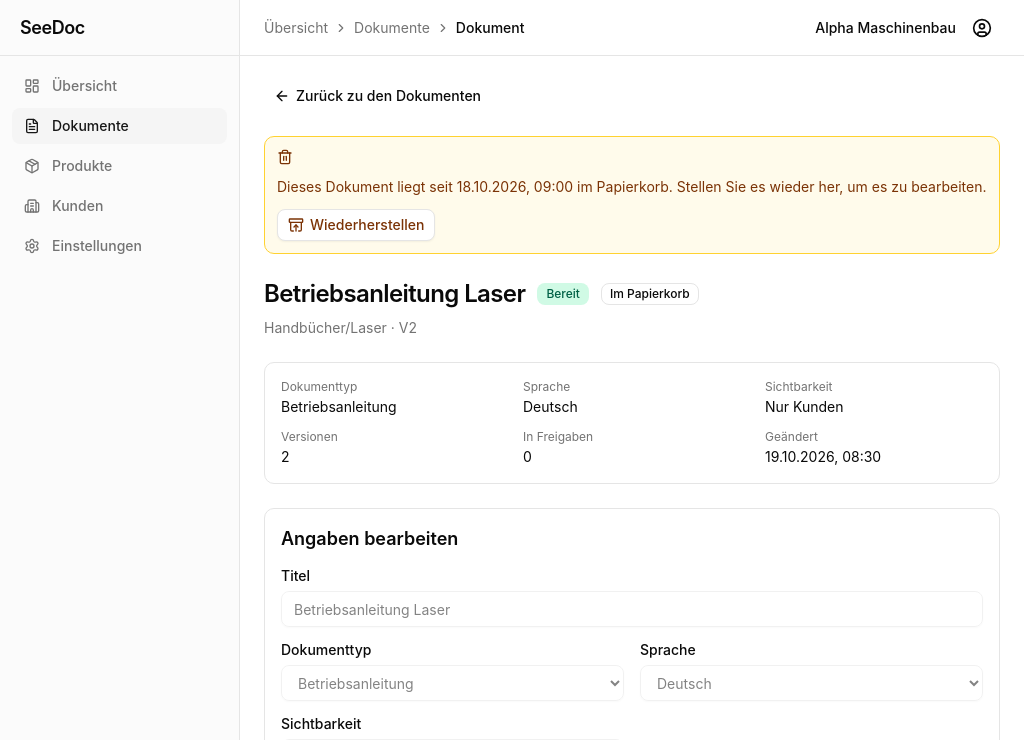
Test: DocumentDetailPage › offers to restore a trashed document and then shows it as normal
The image size is (1024, 740).
Click the button "Wiederherstellen".
click(356, 225)  # box [277,209,436,241]
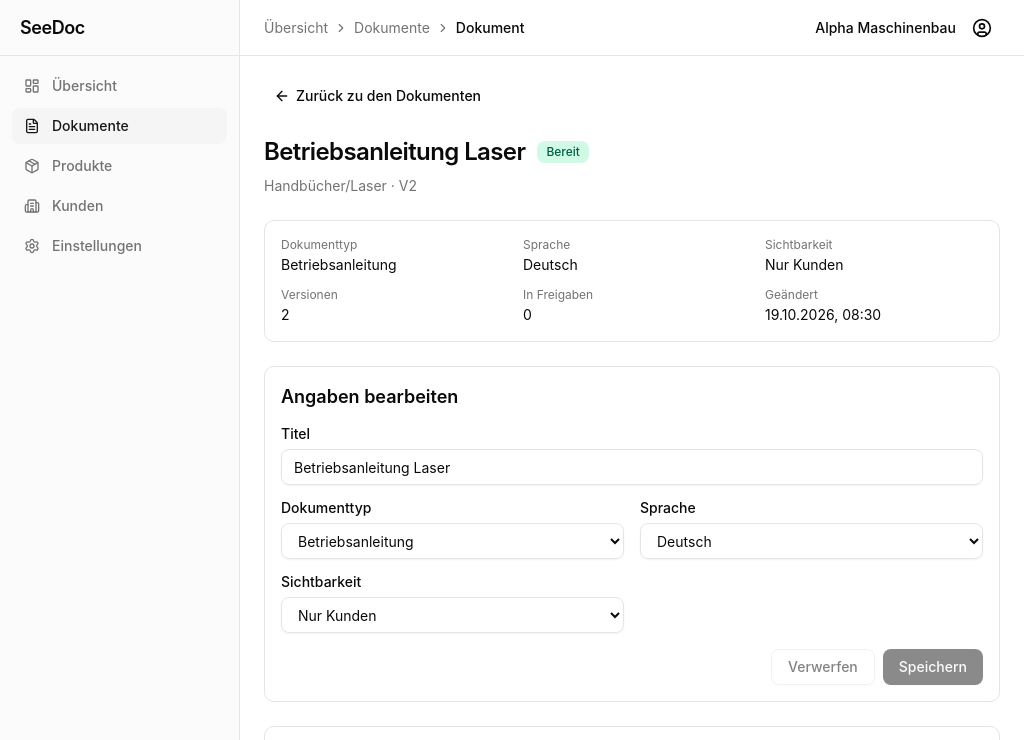
expect the message is gone: met
expect the text "im Papierkorb" is gone: met
